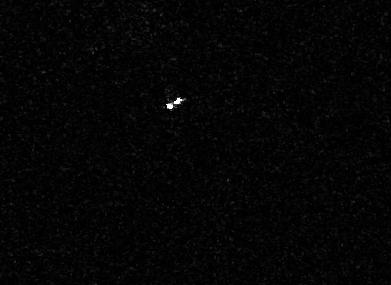ship: (166, 96, 182, 111)
